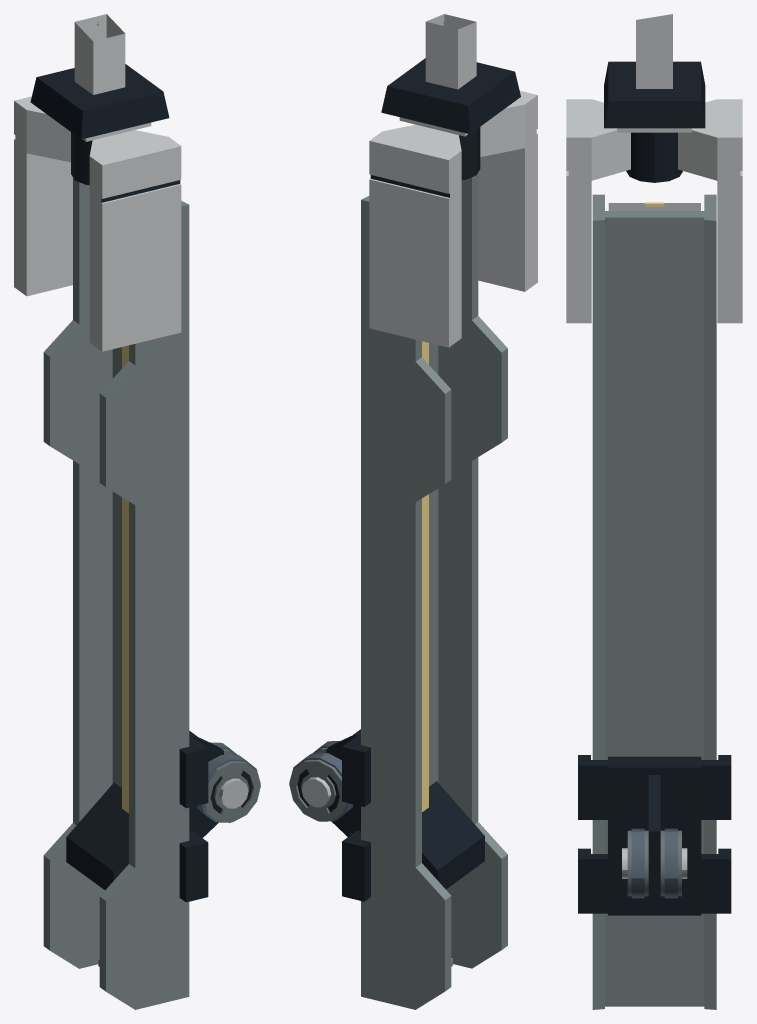
Rendered from Robot_005.fbx.
3 renders of one model, left to right at view 1: azimuth 30°, elevation 25°; view 2: azimuth 150°, elevation 25°; view 3: azimuth 270°, elevation 25°, orthographic.
Visible parts, largest first — view 1: Robot_005, Translation; view 2: Robot_005, Translation; view 3: Robot_005, Translation.
Part boxes in pixels (bbox=[...]): Robot_005: bbox=[14, 14, 189, 1009]; Translation: bbox=[66, 731, 260, 902]; Robot_005: bbox=[361, 14, 537, 1009]; Translation: bbox=[289, 729, 484, 901]; Robot_005: bbox=[566, 14, 742, 1009]; Translation: bbox=[578, 755, 731, 915].
Size of the model in its own units: 60.1 by 289 by 47.64.
